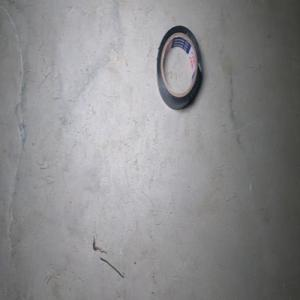Tape: (156, 24, 203, 110)
